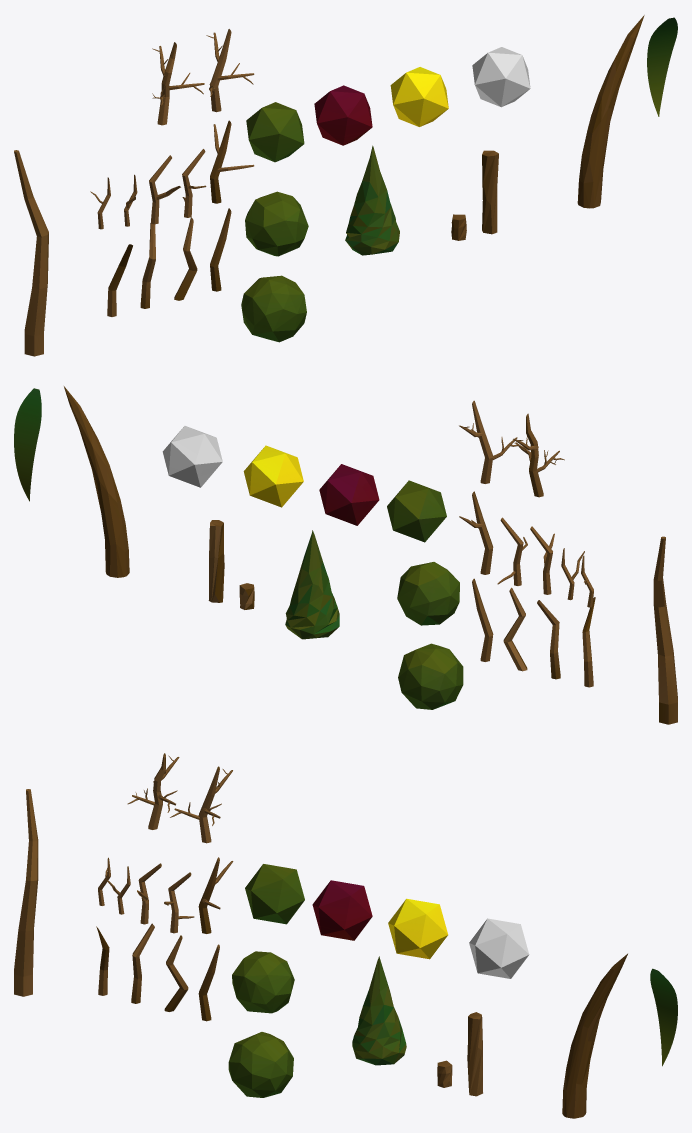
Rendered from Build_a_tree_pack.fbx.
The picture shows the model from 3 angles, top to bottom: view 1: azimuth 30°, elevation 25°; view 2: azimuth 150°, elevation 25°; view 3: azimuth 330°, elevation 25°; orthographic projection.
Parts seen in each view (by area): view 1: palm_base, Pine, Leaves_v3, Leaves_v2, Base, Leaves_tri, Leaves_tri_2, Leaves_tri_3, Leaves_tri_1, palm_leave, Tree_stump_large, branch_low02 (+6 smaller); view 2: palm_base, Pine, Leaves_v3, Leaves_v2, Base, Leaves_tri_1, Leaves_tri_3, Leaves_tri_2, Leaves_tri, palm_leave, Tree_stump_large, branch_low03 (+6 smaller); view 3: Pine, Leaves_v3, palm_base, Leaves_v2, Base, Leaves_tri_1, Leaves_tri_3, Leaves_tri_2, Leaves_tri, palm_leave, Tree_stump_large, branch_low02 (+5 smaller).
Part boxes in pixels (x1,y1,x2,y2): palm_base: [577, 15, 644, 208]; Pine: [345, 145, 399, 255]; Leaves_v3: [241, 275, 306, 342]; Leaves_v2: [245, 191, 308, 256]; Base: [14, 150, 48, 356]; Leaves_tri: [246, 102, 304, 162]; Leaves_tri_2: [390, 67, 448, 126]; Leaves_tri_3: [472, 47, 530, 107]; Leaves_tri_1: [314, 85, 372, 145]; palm_leave: [647, 17, 677, 116]; Tree_stump_large: [482, 150, 498, 234]; branch_low02: [140, 223, 155, 308]; palm_base: [64, 386, 129, 577]; Pine: [285, 530, 339, 639]; Leaves_v3: [398, 643, 463, 709]; Leaves_v2: [397, 562, 459, 625]; Base: [653, 536, 677, 724]; Leaves_tri_1: [319, 464, 379, 525]; Leaves_tri_3: [162, 426, 222, 487]; Leaves_tri_2: [243, 445, 303, 507]; Leaves_tri: [387, 480, 446, 542]; palm_leave: [14, 388, 41, 501]; Tree_stump_large: [208, 520, 224, 602]; branch_low03: [503, 587, 527, 671]; Pine: [352, 956, 406, 1065]; Leaves_v3: [228, 1032, 293, 1097]; palm_base: [562, 953, 627, 1118]; Leaves_v2: [232, 951, 294, 1013]; Base: [14, 789, 38, 996]; Leaves_tri_1: [312, 880, 372, 940]; Leaves_tri_3: [469, 918, 529, 978]; Leaves_tri_2: [388, 898, 448, 959]; Leaves_tri: [245, 864, 304, 924]; palm_leave: [650, 968, 677, 1066]; Tree_stump_large: [467, 1012, 482, 1096]; branch_low02: [131, 923, 154, 1003].
Size of the model in its own units: 9508 by 4406 by 1009.
